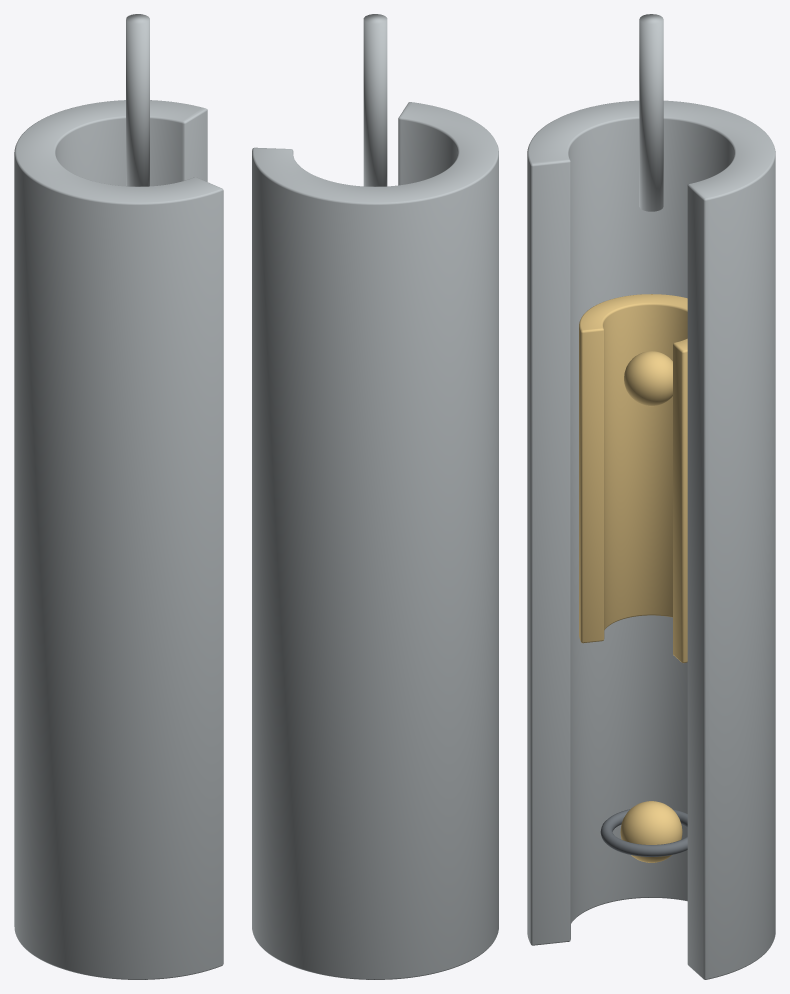
Rendered from rod-pump.glb.
The picture shows the model from 3 angles, left to right: view 1: azimuth 30°, elevation 25°; view 2: azimuth 150°, elevation 25°; view 3: azimuth 270°, elevation 25°; orthographic projection.
Visible parts, largest first — view 1: Pump barrel, Sucker rod; view 2: Pump barrel, Sucker rod; view 3: Pump barrel, Plunger, Sucker rod, Standing ball, Traveling ball, Standing seat.
Part boxes in pixels (<box>): Pump barrel: <box>14,100,223,979</box>; Sucker rod: <box>126,14,149,186</box>; Pump barrel: <box>252,102,498,979</box>; Sucker rod: <box>363,14,387,186</box>; Pump barrel: <box>527,100,775,979</box>; Plunger: <box>579,294,687,663</box>; Sucker rod: <box>639,14,663,211</box>; Standing ball: <box>620,801,682,862</box>; Traveling ball: <box>624,351,672,406</box>; Standing seat: <box>600,809,687,856</box>.
Bounding box in the file's own units: 1.37 × 5.85 × 1.44.
